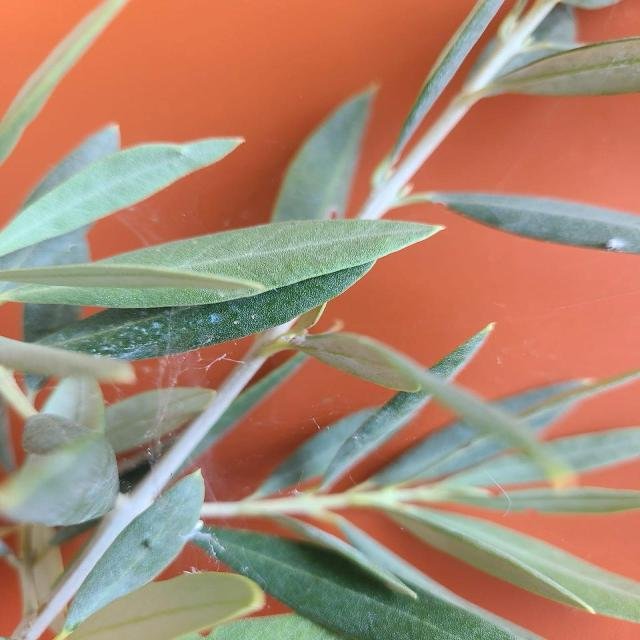Psyllid: (59, 304, 265, 361), (106, 387, 215, 454)
